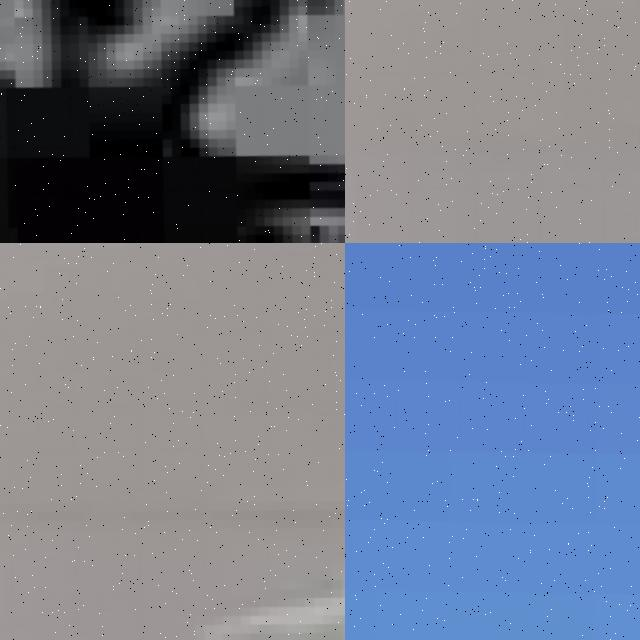drone: (0, 243, 345, 640), (0, 0, 345, 243), (345, 0, 640, 243)
